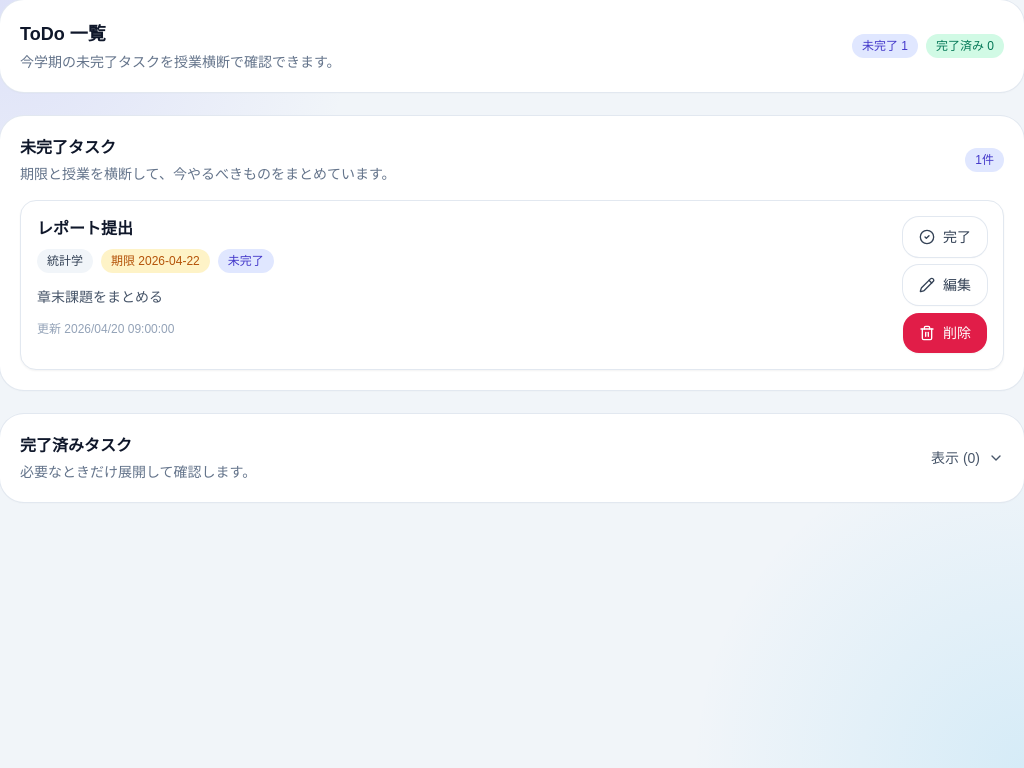
Test: TodosPage › opens the editor from the row title
Click the button "レポート提出".
click(85, 229)  # box [37,217,133,241]
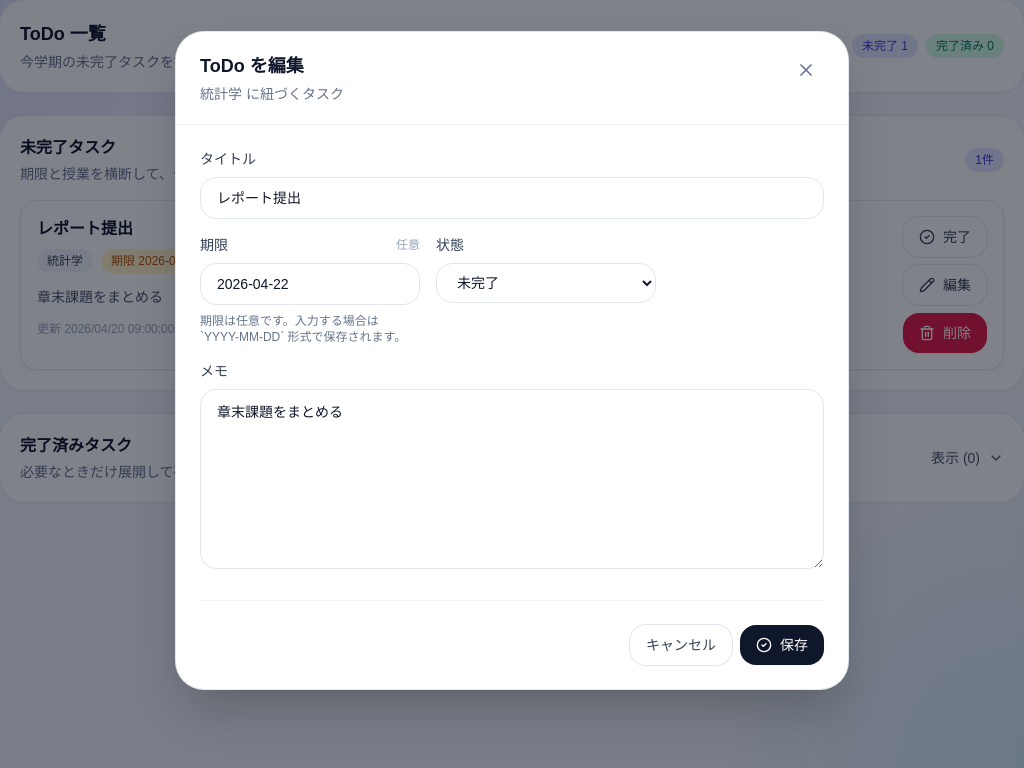
Expected: the text "タイトル" is shown, [200,149,256,169]
Expected: the field showing "2026-04-22" is shown, [200,263,420,305]
